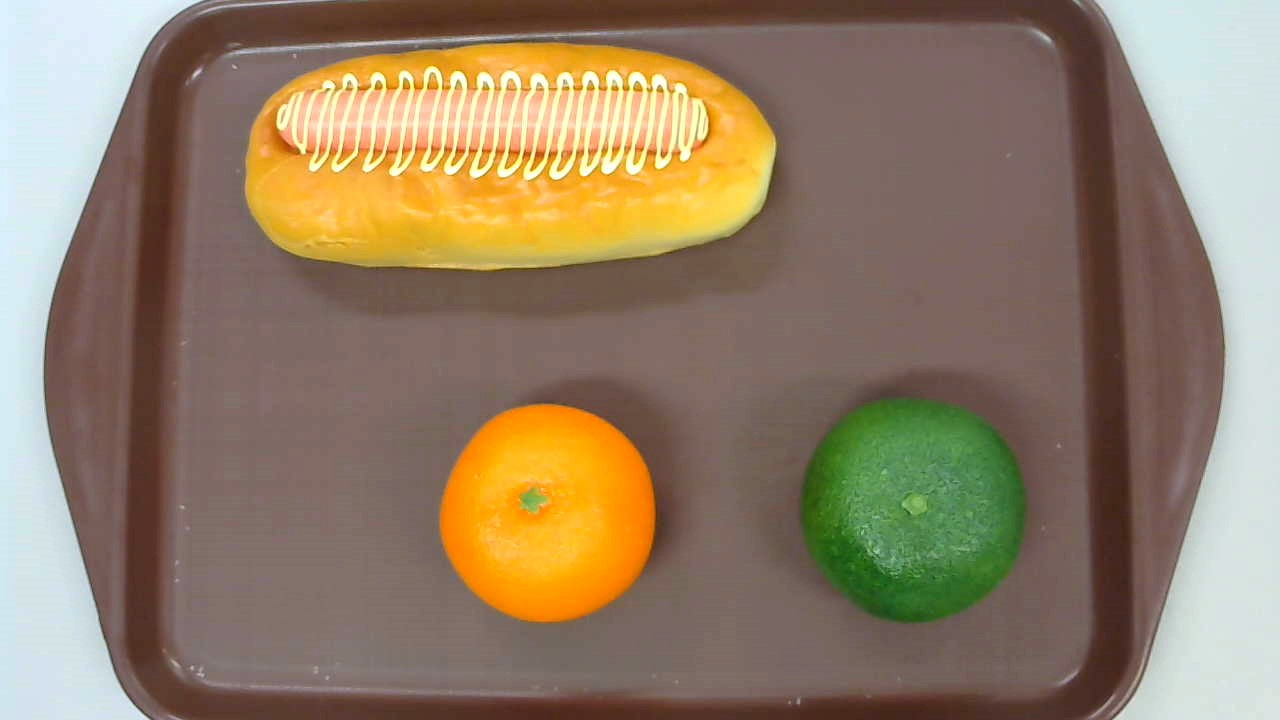green orange: (800, 397, 1026, 623)
hot dog: (244, 41, 777, 270)
orange: (438, 403, 655, 621)
